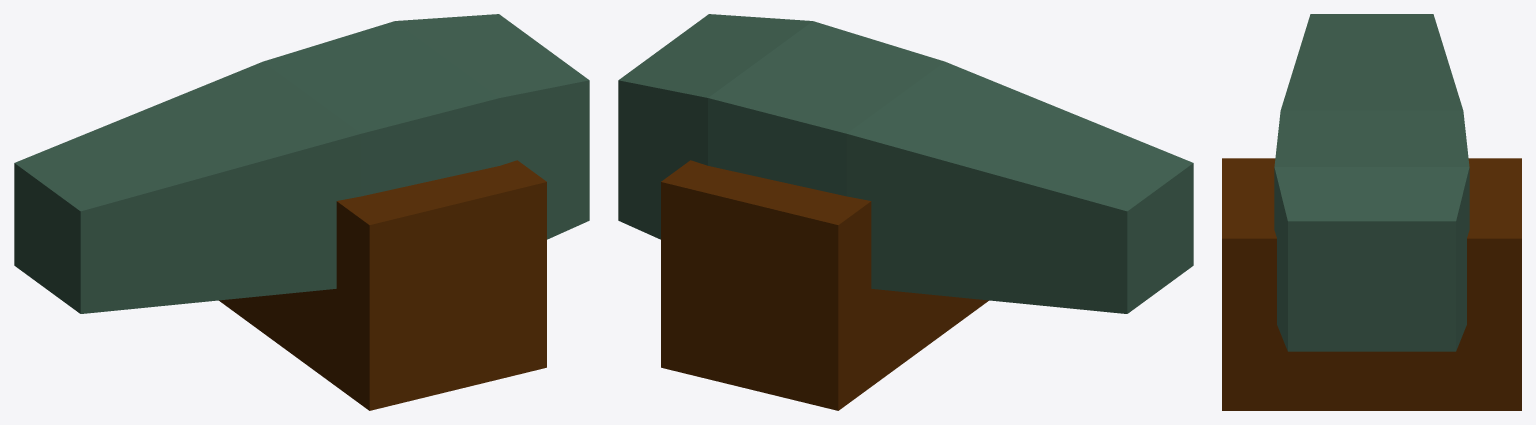
Rendered from Canon Diseño de niel 2.fbx.
The picture shows the model from 3 angles, left to right: view 1: azimuth 30°, elevation 25°; view 2: azimuth 150°, elevation 25°; view 3: azimuth 270°, elevation 25°; orthographic projection. The views are drawn at different scales.
Visible parts, largest first — view 1: Canon; view 2: Canon; view 3: Canon.
Boxes of the visible parts, <box> form: Canon: <box>14,14,589,410</box>; Canon: <box>618,14,1193,410</box>; Canon: <box>1222,14,1521,410</box>.
Size of the model in its own units: 560 by 273 by 315.
